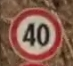limite 40: (8, 4, 64, 61)
